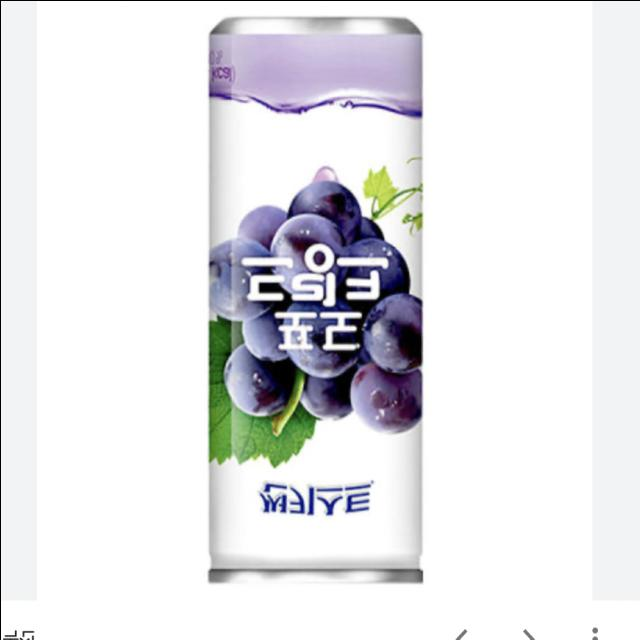can: (192, 4, 436, 608)
